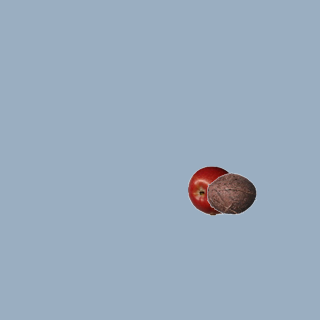Apple Braeburn: (187, 165, 237, 215)
Cocos: (206, 168, 256, 218)
